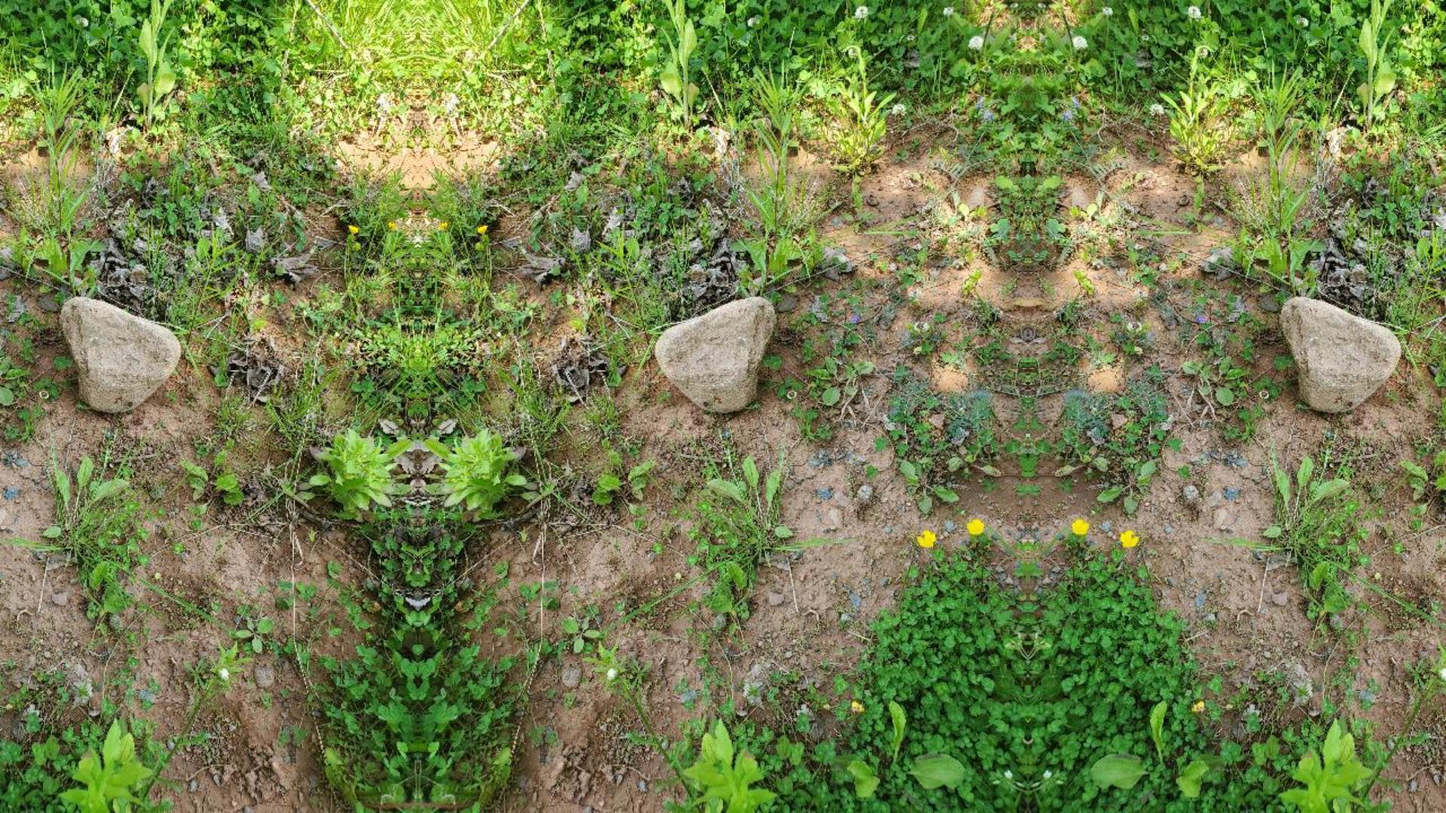rock: (59, 296, 181, 412), (654, 297, 776, 412), (1279, 297, 1401, 412)
